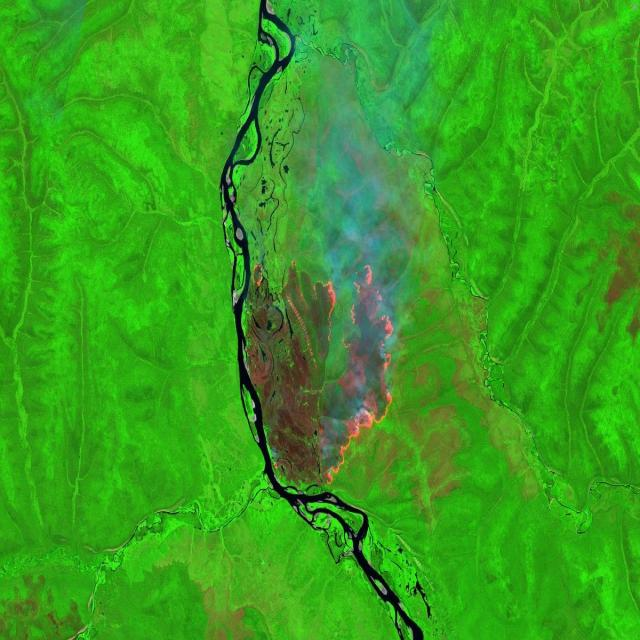fire: (286, 253, 400, 488), (248, 254, 268, 289)
